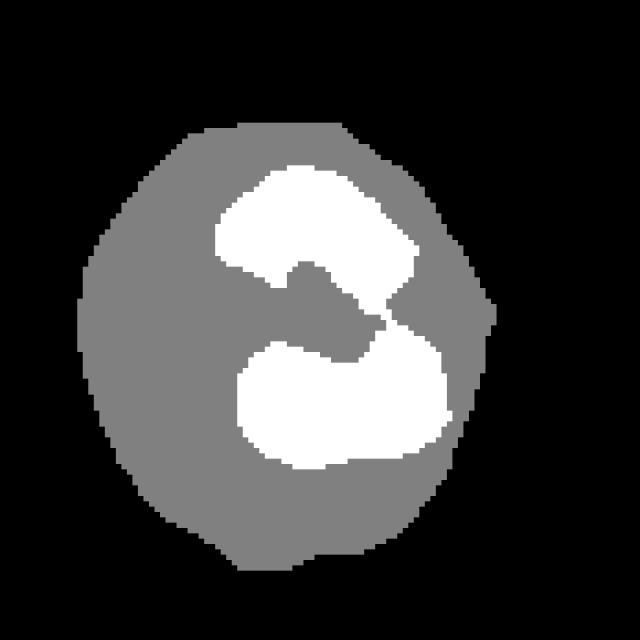WBC: (38, 101, 530, 592)
